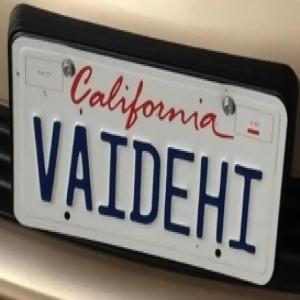Plate: (10, 18, 279, 278)
